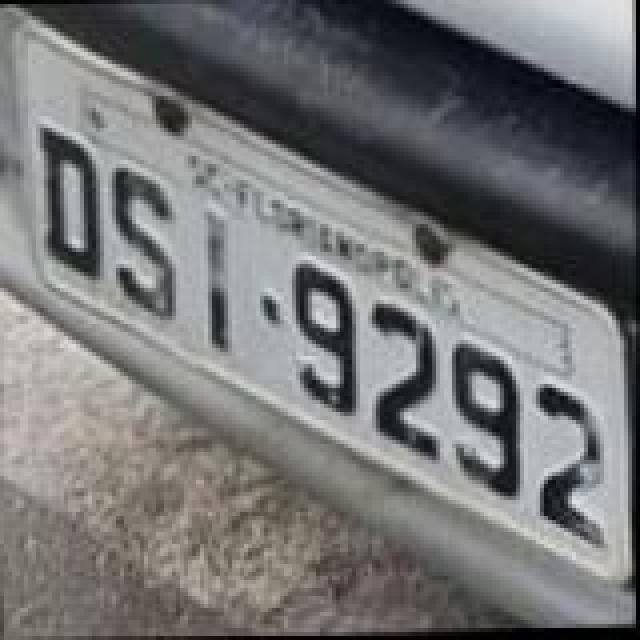1: (200, 202, 236, 358)
2: (532, 384, 612, 556), (368, 298, 448, 466)
9: (448, 342, 528, 506), (290, 260, 362, 420)
D: (32, 124, 104, 284)
S: (104, 162, 176, 322)
